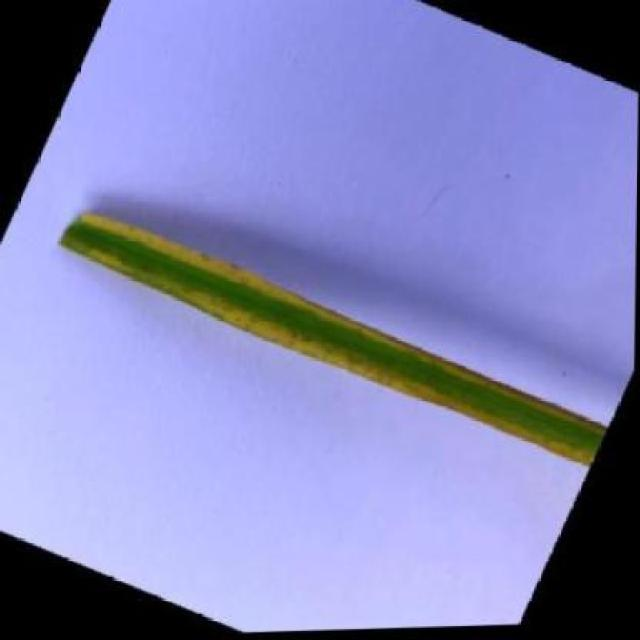Rice False Smut: (51, 190, 612, 492)
